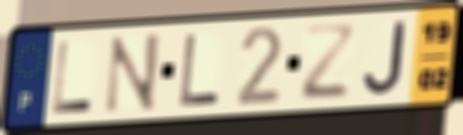2: (232, 24, 285, 109)
J: (361, 18, 409, 98)
L: (50, 38, 96, 116), (178, 31, 223, 107)
N: (101, 30, 164, 117)
Z: (297, 23, 358, 103)
